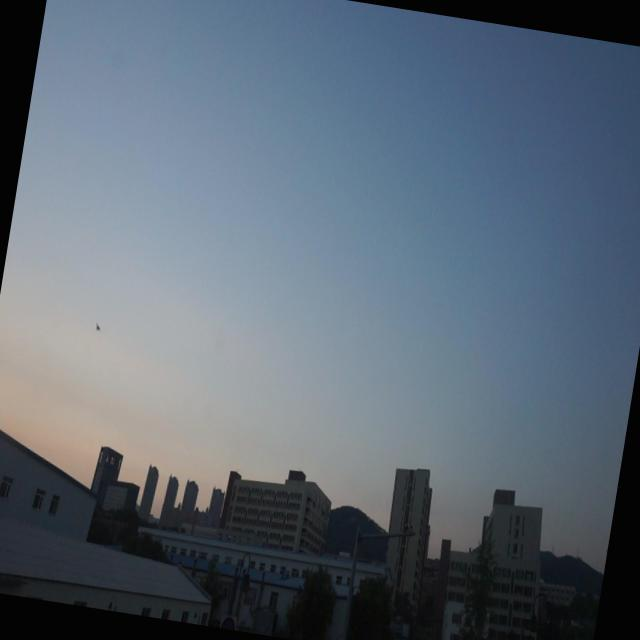drone: (92, 319, 104, 336)
